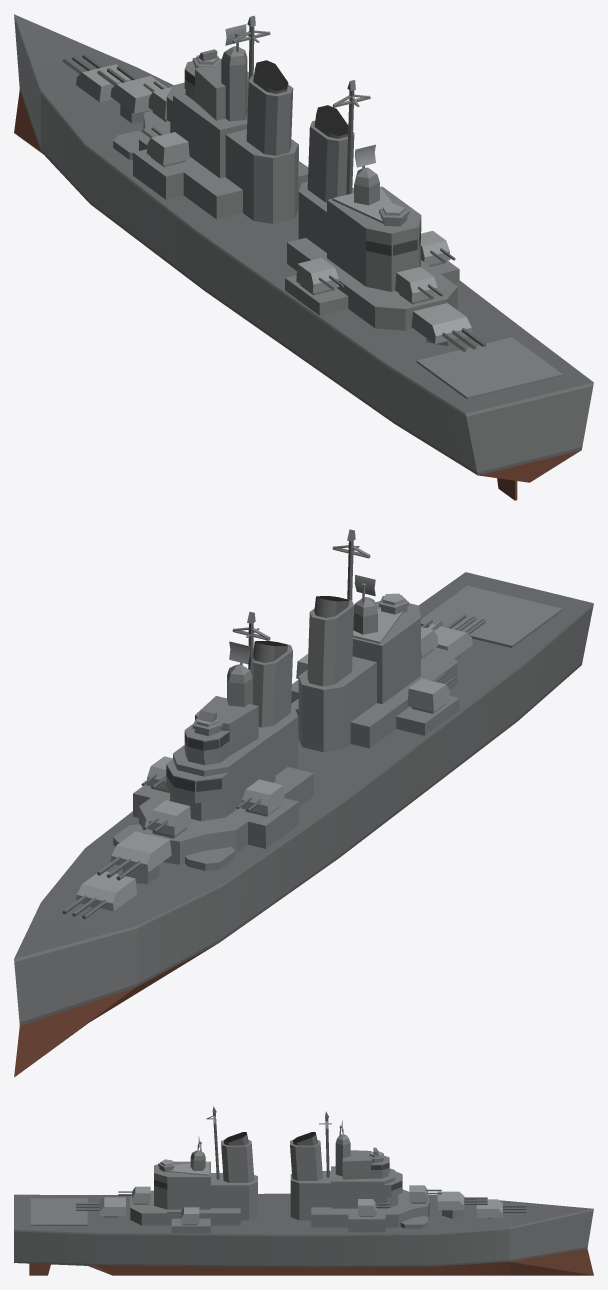
Rendered from Крейсер (3 юнита).fbx.
3 views of the same model, one above another, from view 1: azimuth 30°, elevation 25°; view 2: azimuth 150°, elevation 25°; view 3: azimuth 270°, elevation 25° (orthographic). The views are drawn at different scales.
Visible parts, largest first — view 1: Крейсер; view 2: Крейсер; view 3: Крейсер.
Part boxes in pixels (x1,y1,x2,y2): Крейсер: [14, 14, 593, 500]; Крейсер: [14, 529, 593, 1077]; Крейсер: [14, 1106, 593, 1275].
Bounding box in the file's own units: 0.9845 × 1.88 × 5.85.
